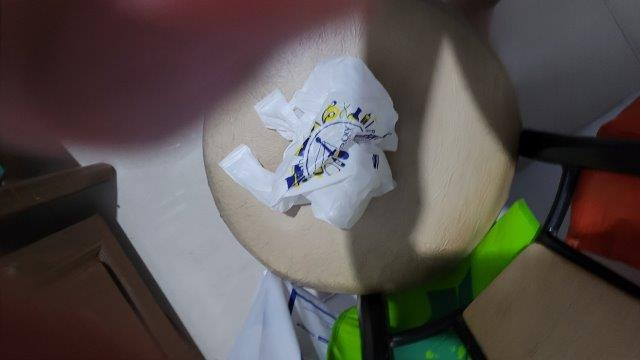plastik: (218, 57, 398, 225)
